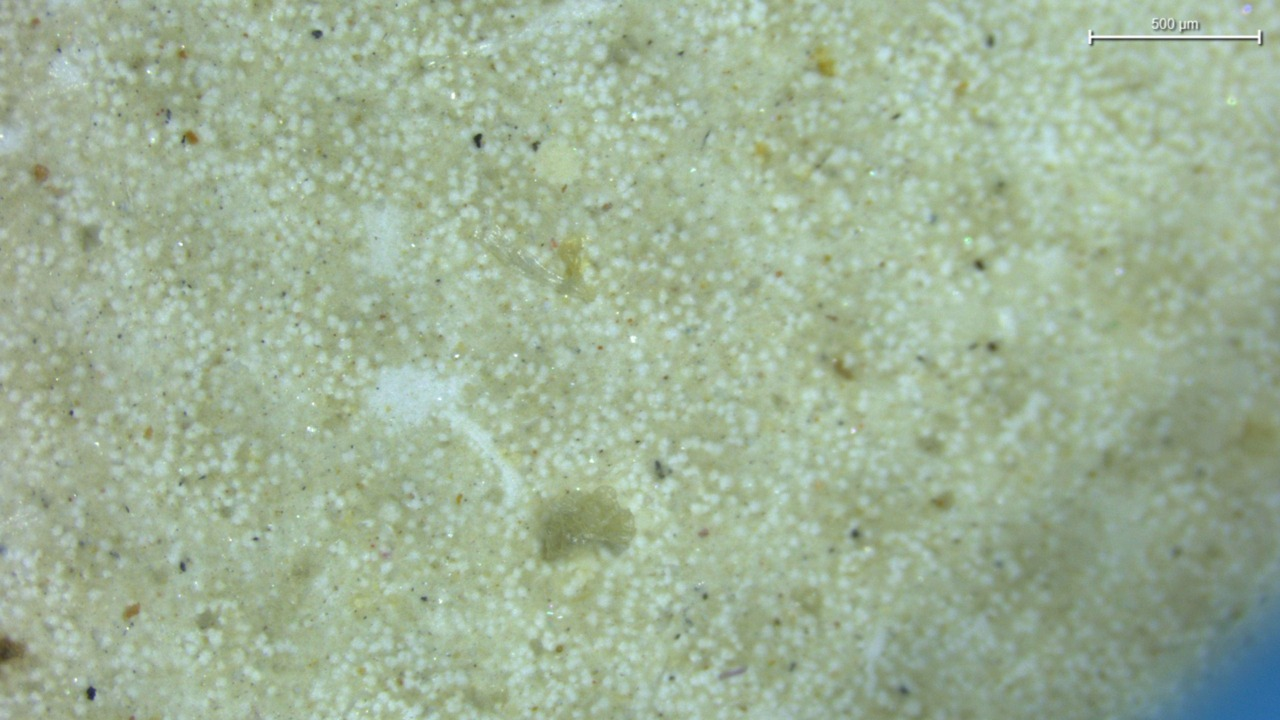microplastic_fragment: (535, 488, 635, 560)
